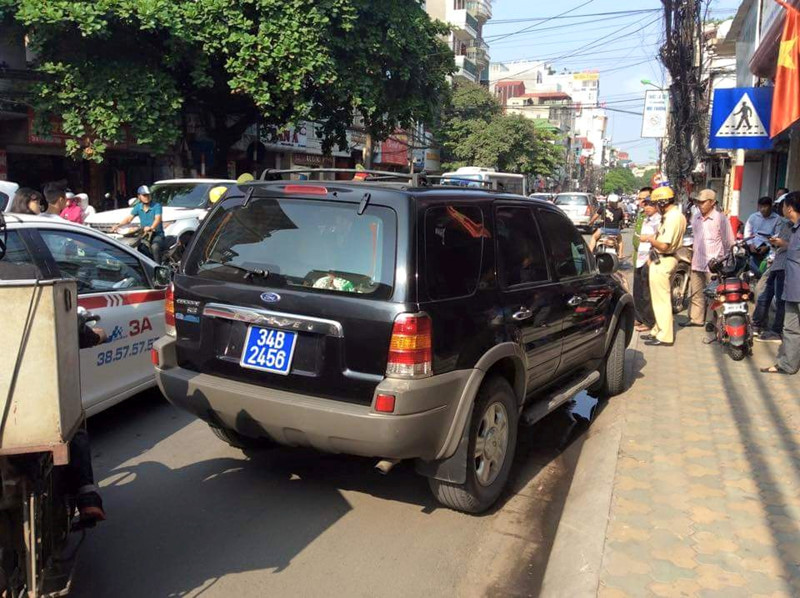plate: (234, 320, 299, 375)
